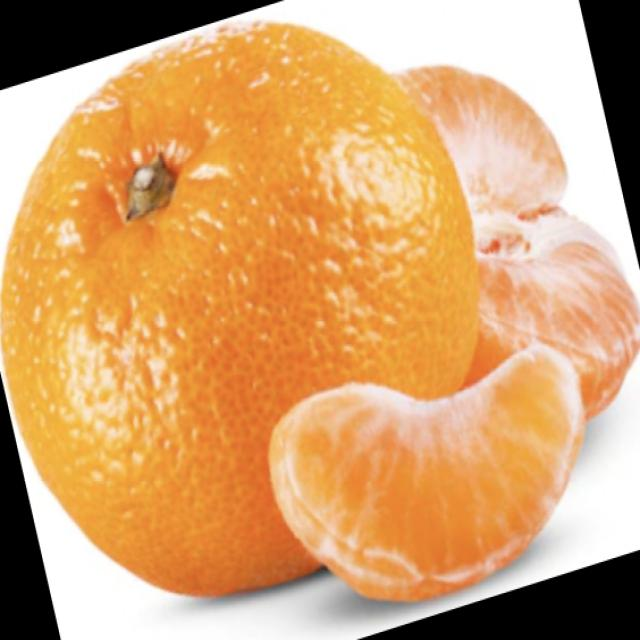fresh: (0, 14, 634, 604)
